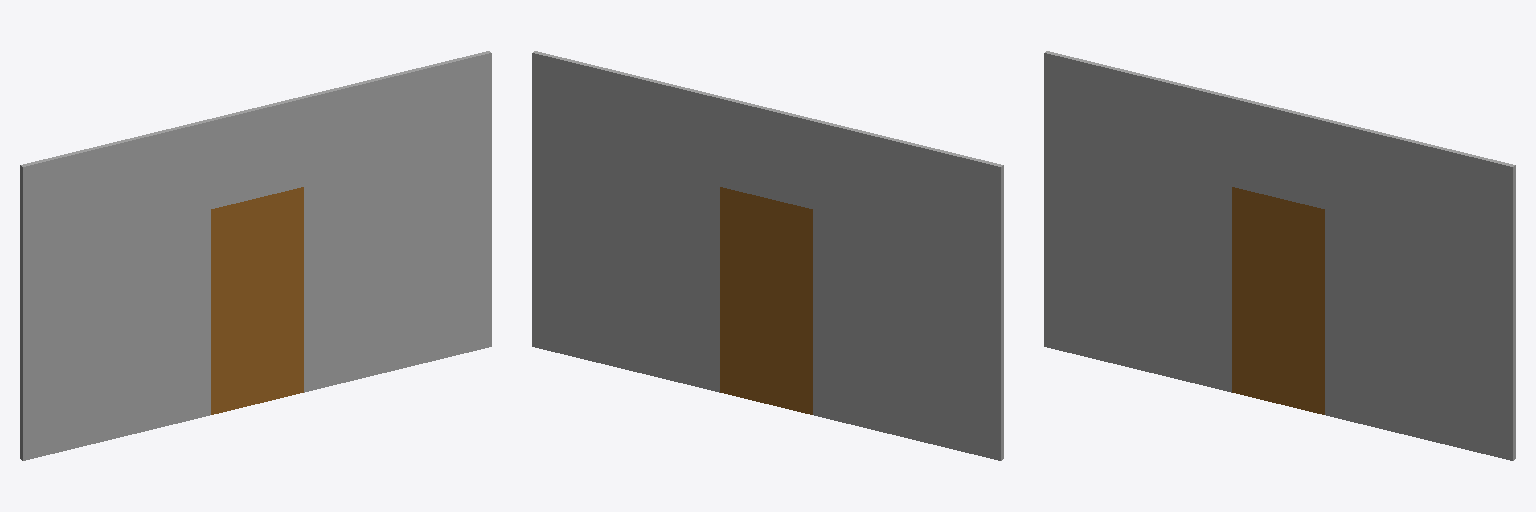
robot.urdf — wall_with_single_door:
<?xml version="1.0"?>
<robot name="wall_with_single_door">
  <!--
    URDF scene: wall 5.0m (length, x) x 0.05m (thickness, y) x 3.0m (height, z)
    Center opening with a single door.

    Adjustable parameters:
      total_length = 5.0
      wall_height  = 3.0
      wall_thick   = 0.05
      opening_width  = 1.0   (opening width for single door)
      opening_height = 2.1
      door_thickness  = 0.05
      door_width = 1.0
  -->

  <link name="wall_base">
    <inertial>
      <origin xyz="0 0 0" rpy="0 0 0" />
      <mass value="1.0" />
      <inertia ixx="0.001" ixy="0.0" ixz="0.0" iyy="0.001" iyz="0.0" izz="0.001" />
    </inertial>
  </link>

  <!-- LEFT WALL PANEL -->
  <!-- left_panel_width = (5.0 - 1.0)/2 = 2.0 -->
  <link name="wall_left">
    <visual>
      <origin xyz="-1.5 0 1.5" rpy="0 0 0" />
      <geometry>
        <box size="2.0 0.05 3.0" />
      </geometry>
      <material name="grey"><color rgba="0.7 0.7 0.7 1.0"/></material>
    </visual>
    <collision>
      <origin xyz="-1.5 0 1.5" rpy="0 0 0" />
      <geometry>
        <box size="2.0 0.05 3.0" />
      </geometry>
    </collision>
  </link>

  <joint name="wall_left_fixed" type="fixed">
    <parent link="wall_base"/>
    <child  link="wall_left"/>
    <origin xyz="0 0 0" rpy="0 0 0"/>
  </joint>

  <!-- RIGHT WALL PANEL -->
  <link name="wall_right">
    <visual>
      <origin xyz="1.5 0 1.5" rpy="0 0 0" />
      <geometry>
        <box size="2.0 0.05 3.0" />
      </geometry>
      <material name="grey"><color rgba="0.7 0.7 0.7 1.0"/></material>
    </visual>
    <collision>
      <origin xyz="1.5 0 1.5" rpy="0 0 0" />
      <geometry>
        <box size="2.0 0.05 3.0" />
      </geometry>
    </collision>
  </link>

  <joint name="wall_right_fixed" type="fixed">
    <parent link="wall_base"/>
    <child  link="wall_right"/>
    <origin xyz="0 0 0" rpy="0 0 0"/>
  </joint>

  <!-- LINTEL / TOP PART above the opening -->
  <!-- lintel_height = 3.0 - 2.1 = 0.9; center z = 3.0 - 0.9/2 = 2.55 -->
  <link name="wall_lintel">
    <visual>
      <origin xyz="0 0 2.55" rpy="0 0 0" />
      <geometry>
        <box size="5.0 0.05 0.9" />
      </geometry>
      <material name="grey"><color rgba="0.7 0.7 0.7 1.0"/></material>
    </visual>
    <collision>
      <origin xyz="0 0 2.55" rpy="0 0 0" />
      <geometry>
        <box size="5.0 0.05 0.9" />
      </geometry>
    </collision>
  </link>

  <joint name="wall_lintel_fixed" type="fixed">
    <parent link="wall_base"/>
    <child  link="wall_lintel"/>
    <origin xyz="0 0 0" rpy="0 0 0"/>
  </joint>

  <!-- SINGLE DOOR -->
  <link name="door">
    <visual>
      <origin xyz="0.5 0 0" rpy="0 0 0" /> <!-- door_width/2, 0, door_height/2 -->
      <geometry>
        <box size="1.0 0.05 2.1" />
      </geometry>
      <material name="wood"><color rgba="0.65 0.45 0.2 1.0"/></material>
    </visual>
    <collision>
      <origin xyz="0.5 0 1.05" rpy="0 0 0" />
      <geometry>
        <box size="1.0 0.05 2.1" />
      </geometry>
    </collision>
    <inertial>
      <origin xyz="0.5 0 1.05" />
      <mass value="5.0" />
      <inertia ixx="0.1" ixy="0.0" ixz="0.0" iyy="0.1" iyz="0.0" izz="0.1" />
    </inertial>
  </link>

  <joint name="door_hinge" type="revolute">
    <parent link="wall_base" />
    <child  link="door" />
    <!-- hinge located at left edge of opening: x = -0.5 -->
    <origin xyz="-0.5 0 1.05" rpy="0 0 0" />
    <axis xyz="0 0 1" />
    <limit effort="10.0" velocity="2.0" lower="-1.5708" upper="1.5708" />
    <dynamics damping="0.5" friction="0.0" />
  </joint>

</robot>

--- Facts derived from the render (not from the file) ---
3 views of the same robot in one strip: view 1: azimuth 30°, elevation 25°; view 2: azimuth 150°, elevation 25°; view 3: azimuth 330°, elevation 25° (orthographic).
Model wall_with_single_door with 5 links and 4 joints (1 revolute, 3 fixed), rooted at wall_base, posed every joint at zero.
Visible links, largest first — view 1: wall_left, wall_right, wall_lintel, door; view 2: wall_left, wall_right, wall_lintel, door; view 3: wall_right, wall_left, wall_lintel, door.
Boxes of the visible links, box(x1,y1,x2,y2) form: wall_left: box(20, 119, 210, 460); wall_right: box(303, 51, 491, 392); wall_lintel: box(20, 53, 491, 254); door: box(211, 187, 303, 414); wall_left: box(813, 120, 1003, 460); wall_right: box(532, 51, 721, 392); wall_lintel: box(532, 52, 1003, 252); door: box(720, 187, 812, 414); wall_right: box(1325, 120, 1515, 460); wall_left: box(1044, 51, 1233, 392); wall_lintel: box(1044, 52, 1515, 252); door: box(1232, 187, 1324, 414).
Size in the robot's own frame: 5 by 0.05 by 3 metres.
Geometry: primitives only (box / cylinder / sphere), no mesh files.
